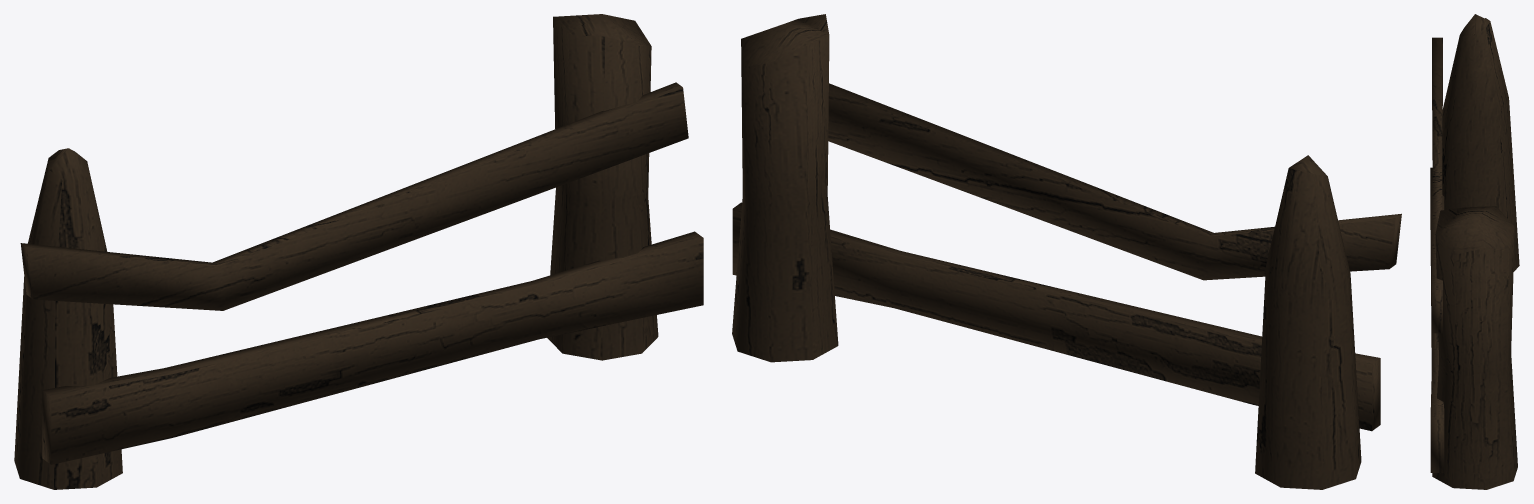
Rendered from WoodFence1.fbx.
The picture shows the model from 3 angles, left to right: view 1: azimuth 30°, elevation 25°; view 2: azimuth 150°, elevation 25°; view 3: azimuth 270°, elevation 25°; orthographic projection. The views are drawn at different scales.
Parts seen in each view (by area): view 1: WoodFence1; view 2: WoodFence1; view 3: WoodFence1.
Part boxes in pixels (x1,y1,x2,y2): WoodFence1: [14, 14, 703, 489]; WoodFence1: [732, 14, 1401, 489]; WoodFence1: [1430, 14, 1519, 489].
Bounding box in the file's own units: 2.29 × 1.05 × 0.3319.
